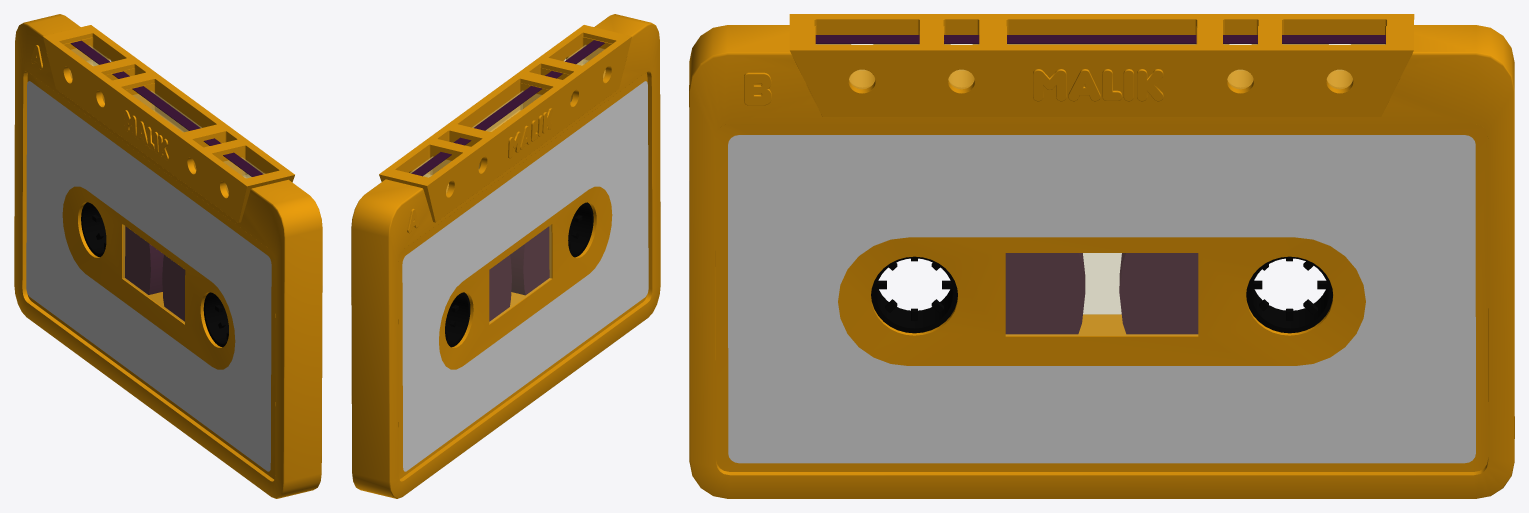
File: cassette.gltf
The picture shows the model from 3 angles, left to right: view 1: azimuth 30°, elevation 25°; view 2: azimuth 150°, elevation 25°; view 3: azimuth 270°, elevation 25°; orthographic projection. The views are drawn at different scales.
Visible parts, largest first — view 1: Kassette_Aussen, Sticker_Front, kassette_oben, Tape, Kassette_Innen, tape_oben, Text; view 2: Kassette_Aussen, Sticker_Front, kassette_oben, Tape, Kassette_Innen, tape_oben, Text; view 3: Sticker_Back, Kassette_Aussen, kassette_oben, Kassette_Innen, Tape, tape_oben, Text.001, Text.003.
Part boxes in pixels (x1,y1,x2,y2): Kassette_Aussen: [14, 14, 322, 498]; Sticker_Front: [26, 81, 271, 471]; kassette_oben: [43, 25, 294, 222]; Tape: [81, 202, 228, 347]; Kassette_Innen: [70, 45, 264, 323]; tape_oben: [70, 40, 263, 176]; Text: [124, 110, 168, 160]; Kassette_Aussen: [351, 14, 660, 498]; Sticker_Front: [402, 81, 648, 471]; kassette_oben: [379, 25, 631, 222]; Tape: [445, 202, 593, 347]; Kassette_Innen: [410, 45, 605, 322]; tape_oben: [411, 40, 604, 176]; Text: [508, 108, 552, 158]; Sticker_Back: [728, 135, 1475, 463]; Kassette_Aussen: [689, 25, 1514, 498]; kassette_oben: [789, 14, 1414, 116]; Kassette_Innen: [816, 44, 1385, 335]; Tape: [871, 253, 1332, 334]; tape_oben: [815, 35, 1385, 43]; Text.001: [1033, 69, 1163, 101]; Text.003: [744, 72, 771, 105].
Size of the model in its own units: 0.21 by 1.19 by 1.96.
